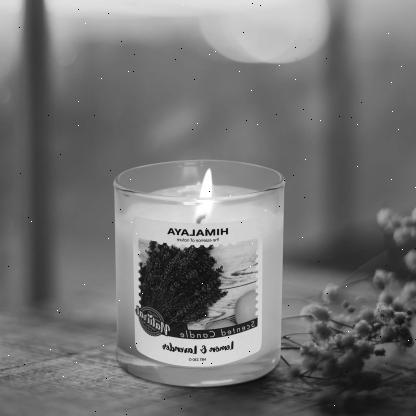fire: (191, 170, 219, 221)
